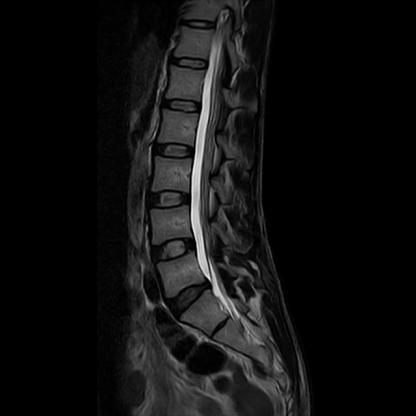Degenerative Disc Diseaserotation: (164, 286, 209, 313)
Disc Bulgerotation: (164, 286, 209, 314)
